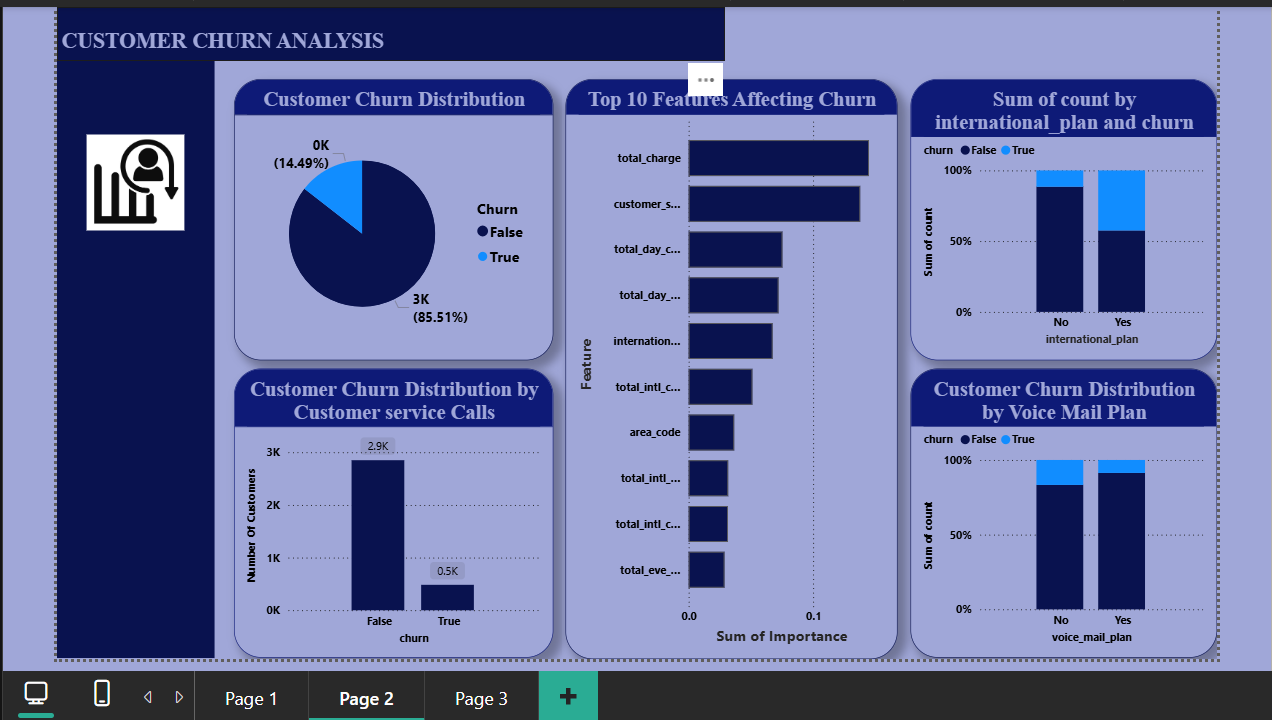

The page's visual inventory and layout, read from the dashboard file:
{"tool":"powerbi","page":{"name":"Page 2","canvas":[1280,720],"ordinal":1},"visuals":[{"type":"pieChart","title":"Customer Churn Distribution","fields":{"Category":["customer_churn_distribution.Churn"],"Y":["Sum(customer_churn_distribution.Customer_Count)"]},"box":[194.7,78.9,352.6,310.5],"z":0},{"type":"clusteredColumnChart","title":"Customer Churn Distribution by Customer service Calls","fields":{"Category":["customer_service_calls_churn.churn"],"Y":["Sum(customer_service_calls_churn.count)"]},"box":[194.7,400,352.6,319.3],"z":1000},{"type":"clusteredBarChart","title":"Top 10 Features Affecting Churn","fields":{"Category":["top10_features.Feature"],"Y":["Sum(top10_features.Importance)"]},"box":[561.4,78.9,366.7,640.4],"z":2000},{"type":"hundredPercentStackedColumnChart","fields":{"Category":["international_plan_churn.international_plan"],"Y":["Sum(international_plan_churn.count)"],"Series":["international_plan_churn.churn"]},"box":[942.1,78.9,338.6,310.5],"z":3000},{"type":"hundredPercentStackedColumnChart","title":"Customer Churn Distribution by Voice  Mail Plan","fields":{"Category":["voicemail_plan_churn.voice_mail_plan"],"Y":["Sum(voicemail_plan_churn.count)"],"Series":["voicemail_plan_churn.churn"]},"box":[942.1,400,338.6,319.3],"z":4000},{"type":"textbox","box":[0,0,736.8,59.6],"z":5000},{"type":"textbox","box":[0,59.6,173.7,659.6],"z":6000},{"type":"image","box":[0,140.8,173.9,106],"z":6001}]}

Visuals, with their boxes on the page's 1280x720 design canvas (x1, y1, x2, y2). These are canvas units, not pixel positions in the 1272x720 screenshot, which may show the page scaled, cropped or inside an application window:
"Customer Churn Distribution" pieChart: l=195, t=79, r=547, b=389
"Customer Churn Distribution by Customer service Calls" clusteredColumnChart: l=195, t=400, r=547, b=719
"Top 10 Features Affecting Churn" clusteredBarChart: l=561, t=79, r=928, b=719
hundredPercentStackedColumnChart - international_plan_churn.international_plan x Sum(international_plan_churn.count): l=942, t=79, r=1281, b=389
"Customer Churn Distribution by Voice  Mail Plan" hundredPercentStackedColumnChart: l=942, t=400, r=1281, b=719
textbox: l=0, t=0, r=737, b=60
textbox: l=0, t=60, r=174, b=719
image: l=0, t=141, r=174, b=247
